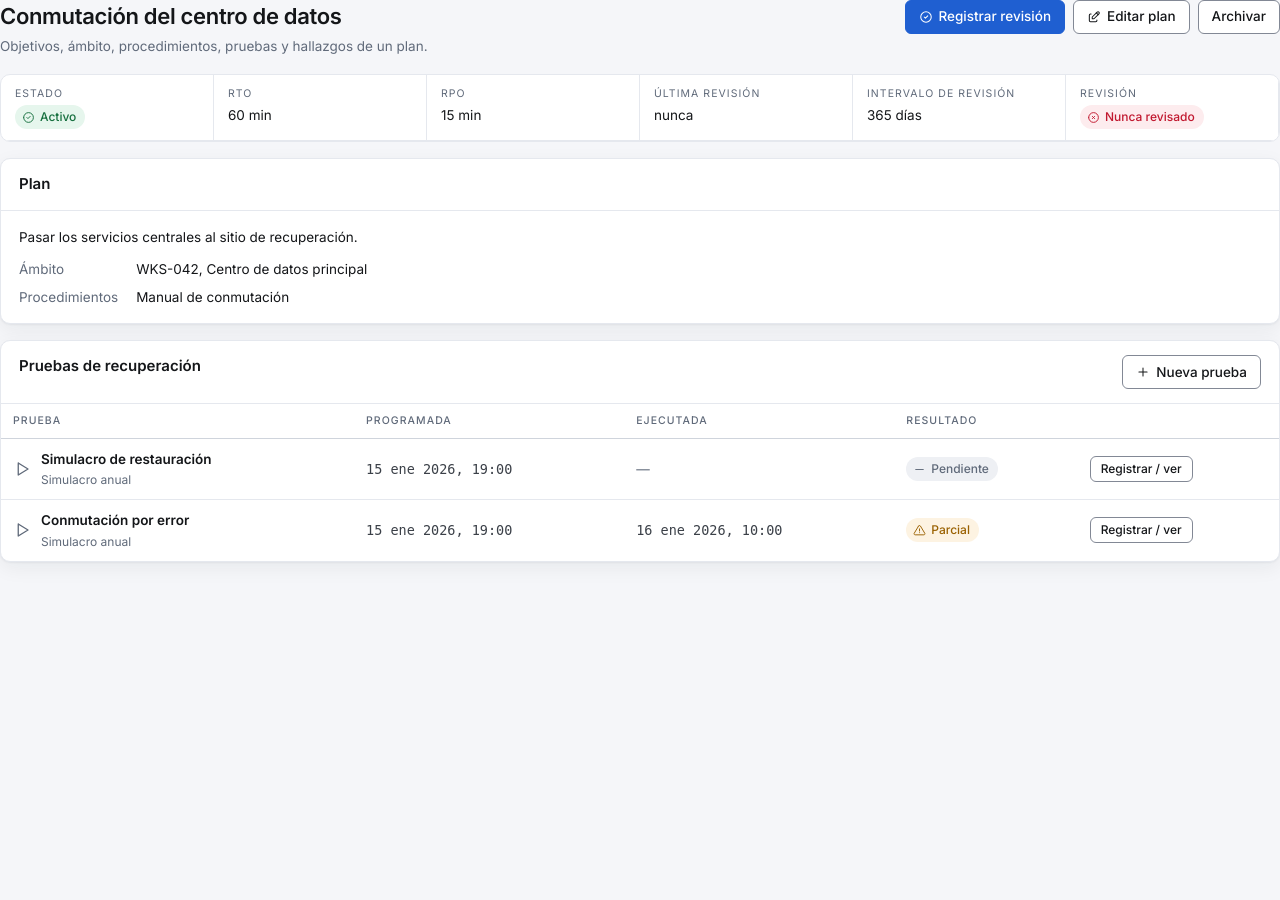
Test: a plan's detail, in Spanish › asks before recording a review, and before archiving
The width and height of the screenshot is (1280, 900).
Expected: the heading "Conmutación del centro de datos" is shown, x1=0 y1=3 x2=342 y2=29
Click the button "Registrar revisión" at (985, 17), box x1=904 y1=0 x2=1065 y2=34
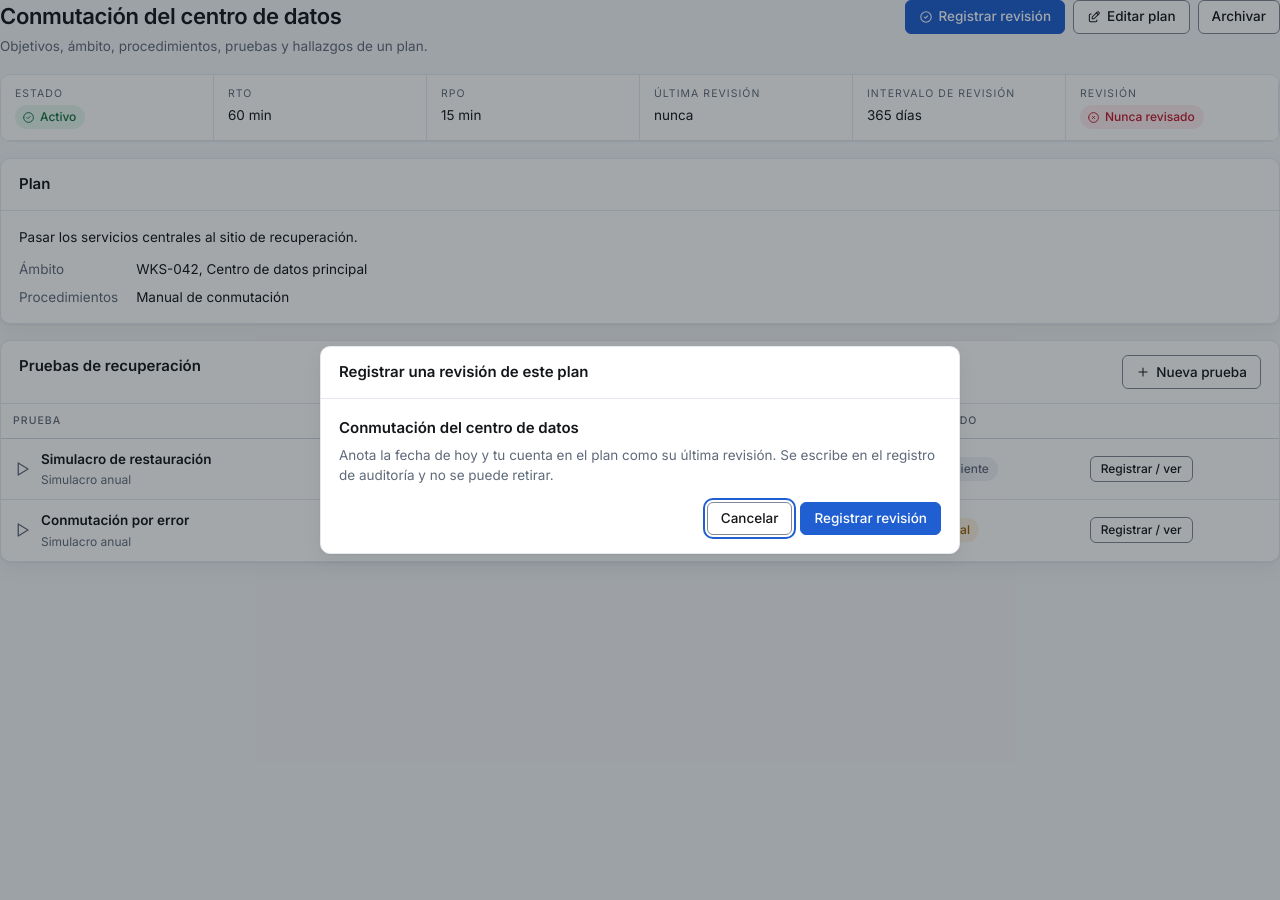
Expected: the dialog "Registrar una revisión de este plan" shows "Anota la fecha de hoy y tu cuenta en el plan como su última revisión. Se escribe en el registro de auditoría y no se puede retirar.", x1=339 y1=447 x2=935 y2=483
Expected: the dialog "Registrar una revisión de este plan" shows "Conmutación del centro de datos", x1=339 y1=418 x2=579 y2=436
Click the button "Registrar revisión" at (871, 518), box x1=800 y1=502 x2=941 y2=535
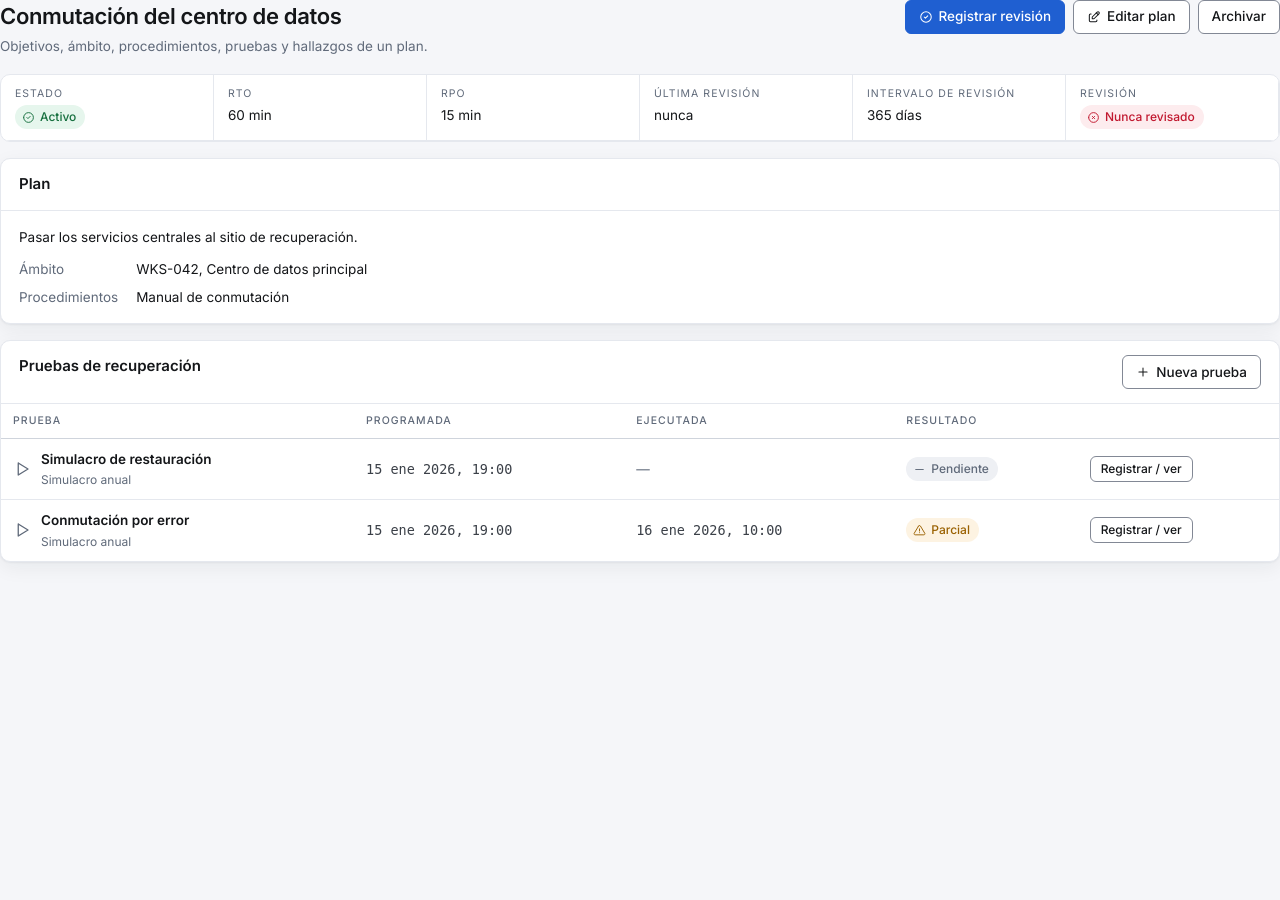
Click the button "Archivar" at (1239, 17), box x1=1198 y1=0 x2=1279 y2=34
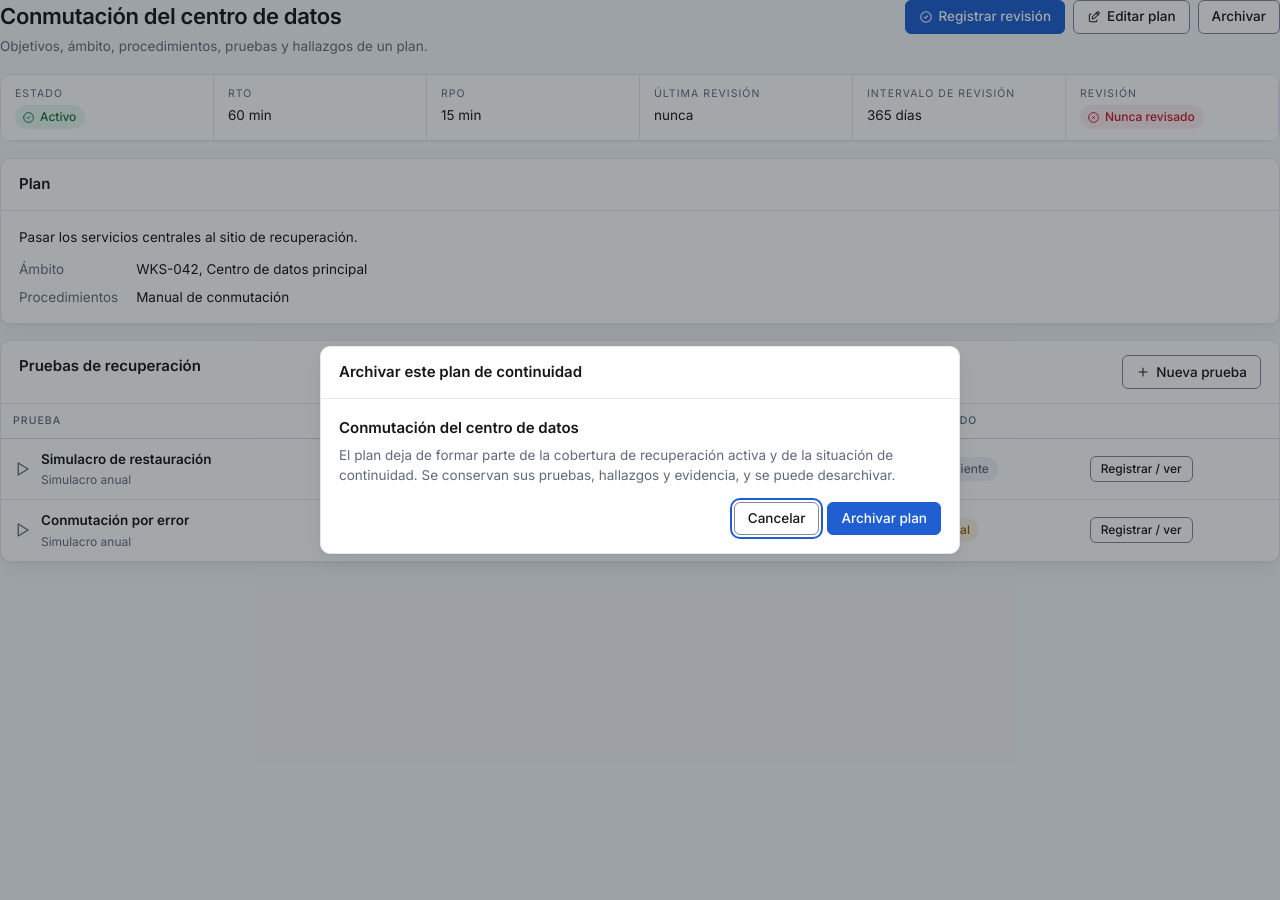
Expected: the dialog "Archivar este plan de continuidad" shows "El plan deja de formar parte de la cobertura de recuperación activa y de la situación de continuidad.", x1=339 y1=447 x2=895 y2=483
Expected: the button "Archivar plan" is shown, x1=828 y1=502 x2=941 y2=535
